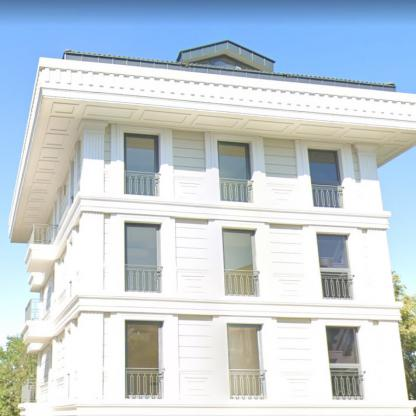window: (326, 327, 362, 396), (226, 324, 260, 397), (127, 322, 159, 397), (126, 224, 158, 291), (316, 235, 350, 298), (223, 230, 255, 295), (308, 150, 342, 208), (218, 142, 249, 202), (125, 136, 155, 195), (192, 56, 262, 71)
